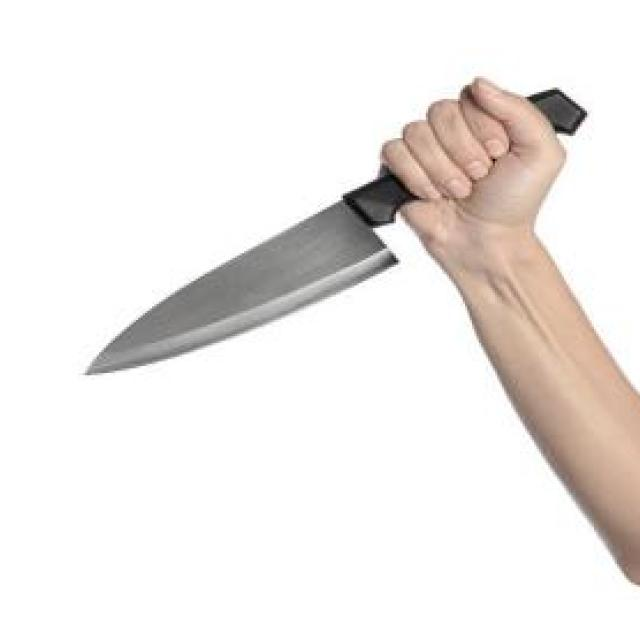knife: (64, 90, 592, 387)
